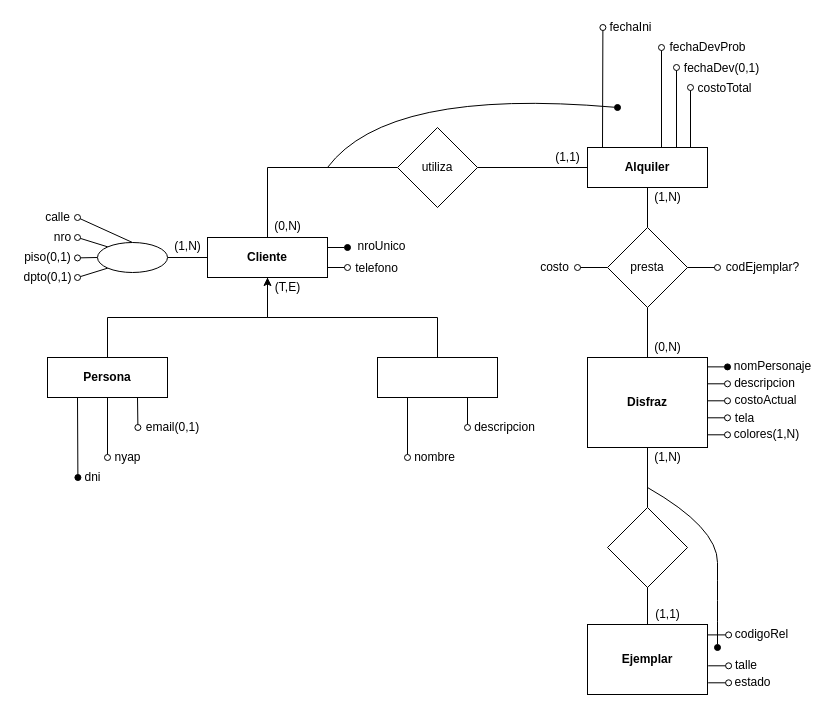
Image size: 834x712. Some labels were removed from this diagram. Each missing label, with the centre of its shape:
dirección: [132,257]
Institución: [437,377]
posee: [647,547]
